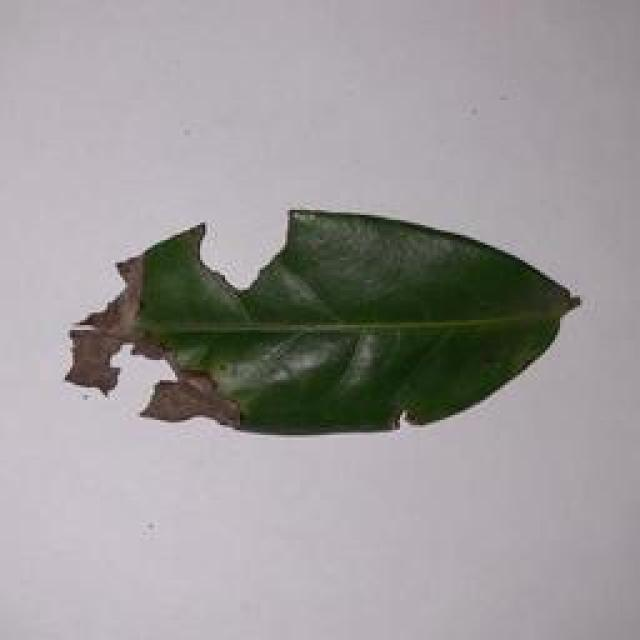Brown Blight: (51, 207, 586, 449)
